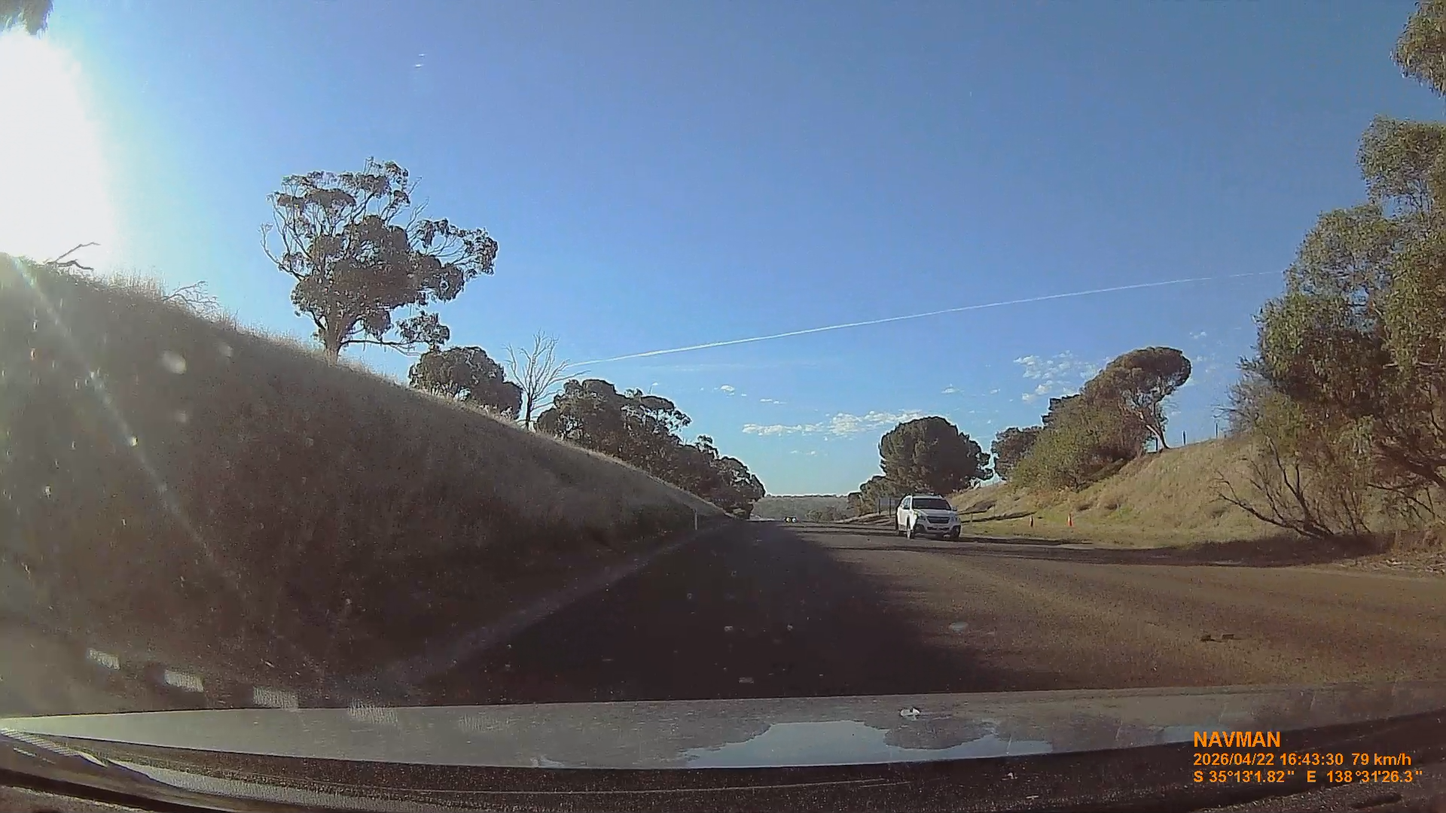fences: (692, 508, 699, 531)
road barriers: (1, 265, 734, 709)
